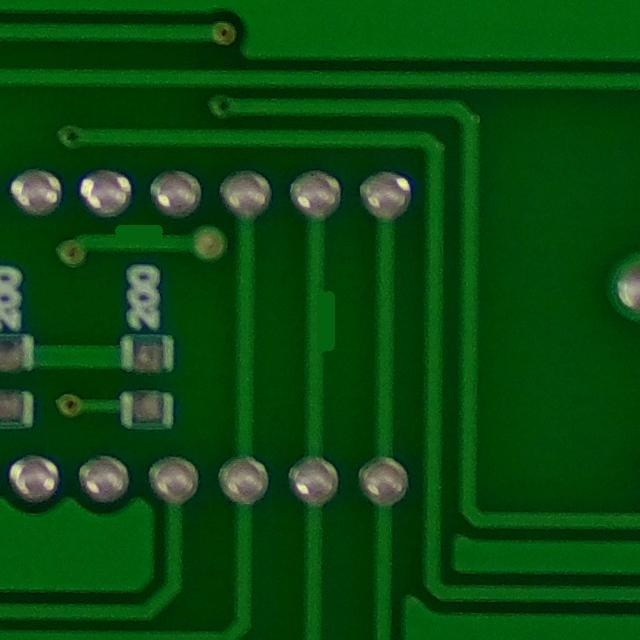spur: (295, 274, 345, 366)
